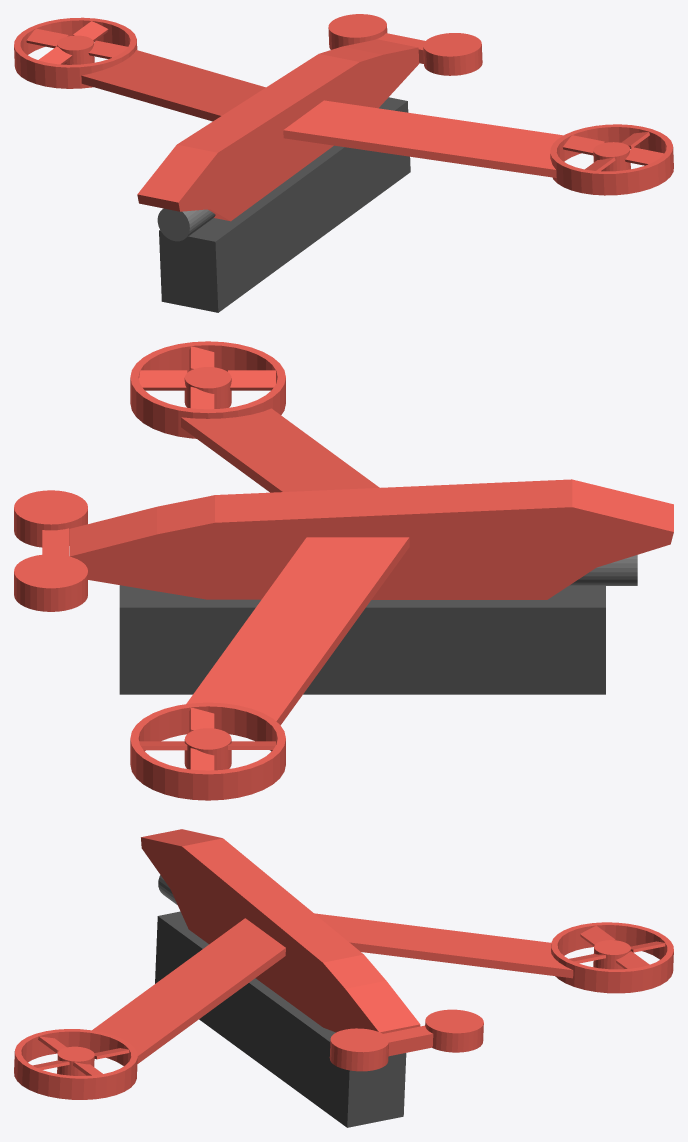
Rendered from Enemy__Missile.fbx.
The picture shows the model from 3 angles, top to bottom: view 1: azimuth 30°, elevation 25°; view 2: azimuth 150°, elevation 25°; view 3: azimuth 270°, elevation 25°; orthographic projection. The views are drawn at different scales.
Parts seen in each view (by area): view 1: Cylinder; view 2: Cylinder; view 3: Cylinder.
Boxes of the visible parts, bbox=[...] form: Cylinder: bbox=[14, 14, 673, 312]; Cylinder: bbox=[14, 341, 673, 800]; Cylinder: bbox=[14, 829, 673, 1127].
Bounding box in the file's own units: 891 × 268 × 1071.
